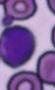L: (0, 26, 35, 68)
